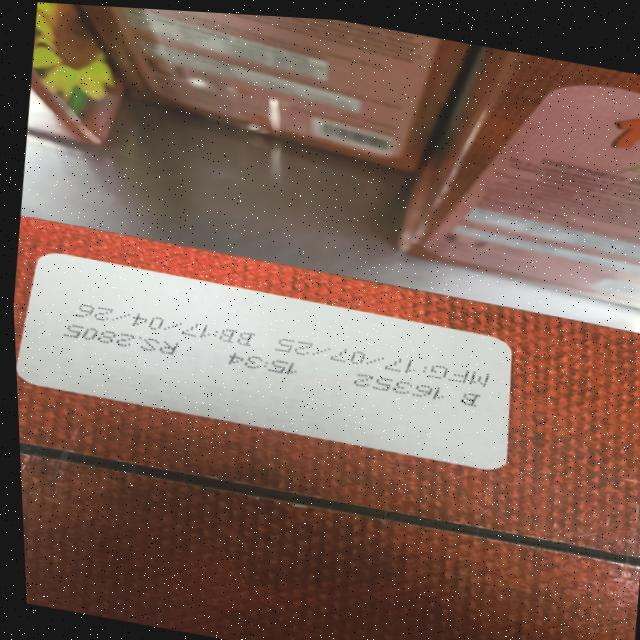BB: (75, 300, 258, 349)
Batch: (347, 370, 482, 409)
MFG: (279, 336, 494, 389)
RS: (60, 321, 181, 357)
TimeStamp: (223, 349, 300, 377)
